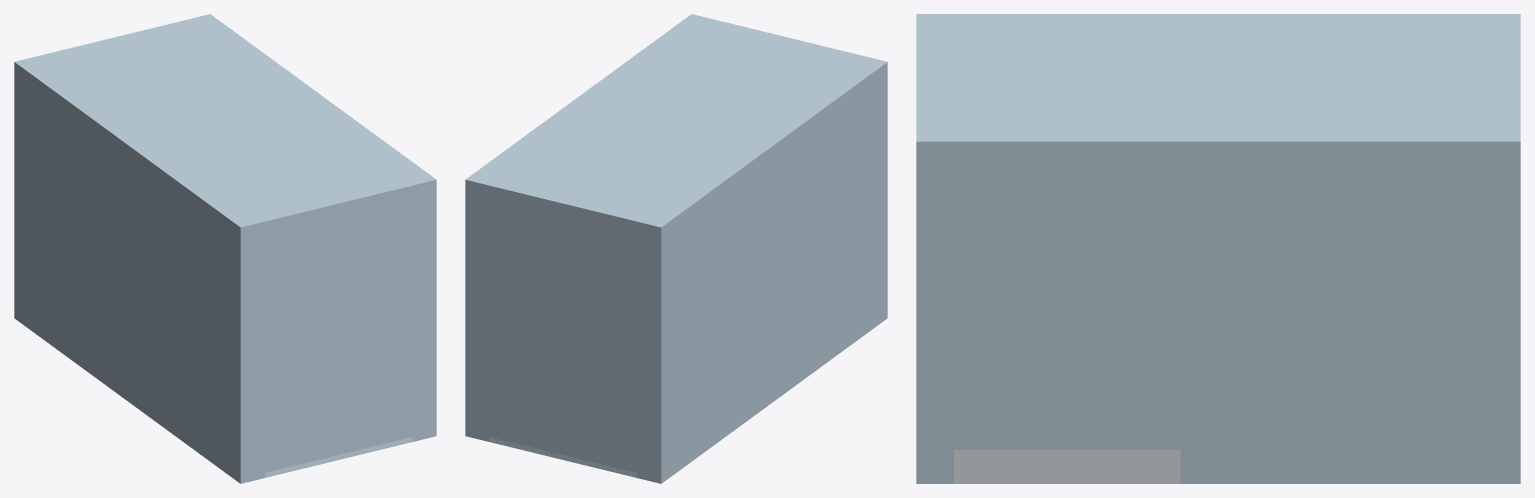
Rendered from frozen-slide-mirror.glb.
3 renders of one model, left to right at view 1: azimuth 30°, elevation 25°; view 2: azimuth 150°, elevation 25°; view 3: azimuth 270°, elevation 25°, orthographic. The views are drawn at different scales.
Visible parts, largest first — view 1: ice-rock_1, ice-rock_7, plug_slide_south, ice-rock_3, ice-rock_5, plug_slide_south.001, ice_1; view 2: ice-rock_1, ice-rock_7, plug_slide_north, ice-rock_2, ice-rock_4, plug_slide_north.001, ice_1; view 3: ice-rock_2, ice-rock_7, plug_ice_east, ice-rock_6, ice-rock_3, snow_1.
Boxes of the visible parts, left/top/right/bottom form: ice-rock_1: left=14, top=88, right=265, bottom=483; ice-rock_7: left=14, top=14, right=436, bottom=252; plug_slide_south: left=265, top=237, right=412, bottom=452; ice-rock_3: left=412, top=205, right=436, bottom=441; ice-rock_5: left=265, top=211, right=412, bottom=272; plug_slide_south.001: left=265, top=416, right=412, bottom=472; ice_1: left=265, top=437, right=412, bottom=477; ice-rock_1: left=636, top=88, right=887, bottom=483; ice-rock_7: left=465, top=14, right=887, bottom=252; plug_slide_north: left=489, top=237, right=636, bottom=452; ice-rock_2: left=465, top=205, right=489, bottom=441; ice-rock_4: left=489, top=211, right=636, bottom=272; plug_slide_north.001: left=489, top=416, right=636, bottom=472; ice_1: left=489, top=437, right=636, bottom=477; ice-rock_2: left=1180, top=176, right=1520, bottom=483; ice-rock_7: left=916, top=14, right=1520, bottom=175; plug_ice_east: left=954, top=244, right=1180, bottom=449; ice-rock_6: left=954, top=176, right=1180, bottom=244; ice-rock_3: left=916, top=176, right=953, bottom=483; snow_1: left=954, top=449, right=1180, bottom=483.
Size of the model in its own units: 4 by 5 by 8.
